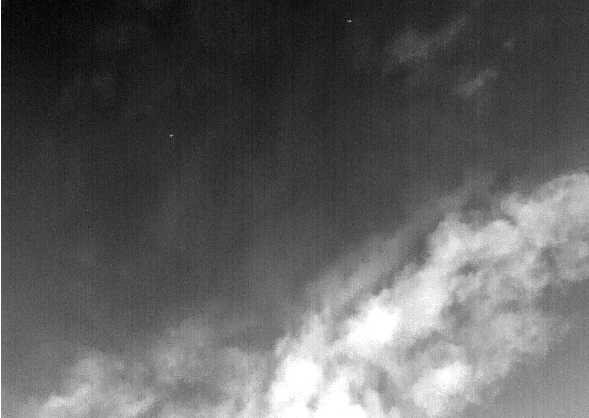dim target: (167, 131, 176, 139), (346, 18, 354, 26)
